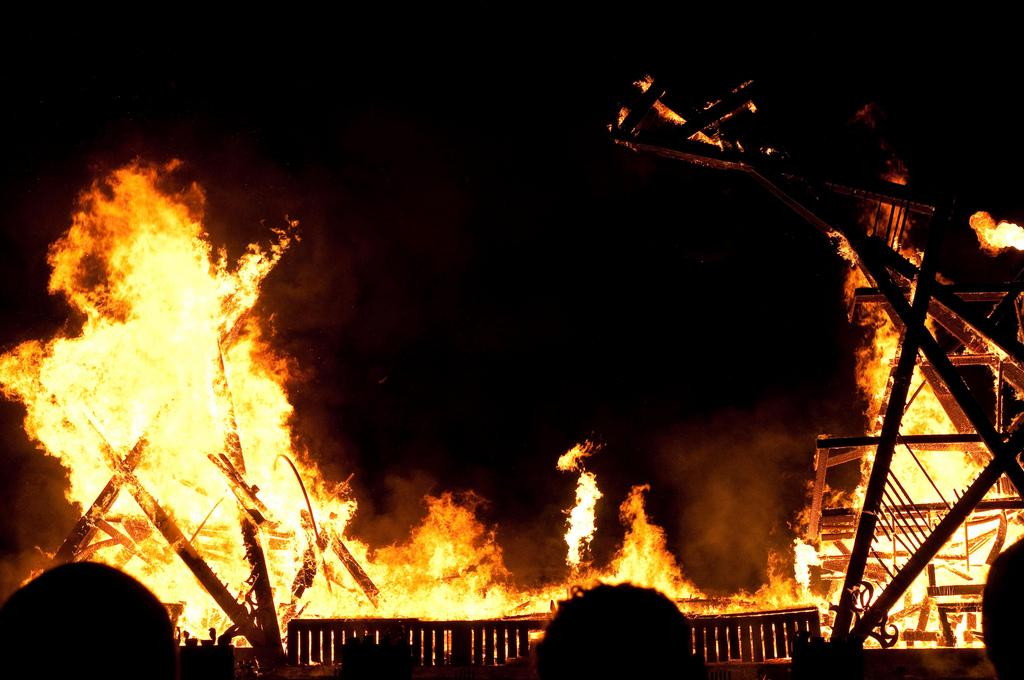fire: (63, 362, 275, 573), (70, 175, 222, 347), (872, 347, 965, 588), (333, 537, 510, 612), (602, 525, 693, 590)
